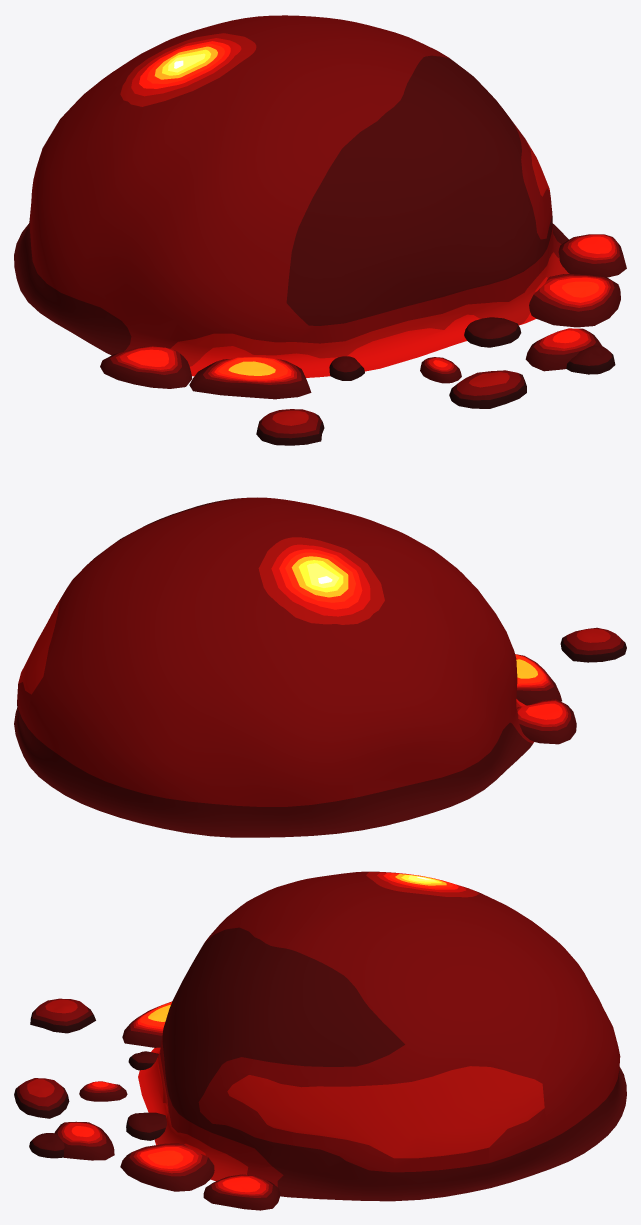
The model's file is lava_bubble_130.glb.
3 views of the same model, one above another, from view 1: azimuth 30°, elevation 25°; view 2: azimuth 150°, elevation 25°; view 3: azimuth 270°, elevation 25° (orthographic). The views are drawn at different scales.
Visible parts, largest first — view 1: dome, splash3, splash2, splash0, splash1, splash10, splash8, splash7, splash5, splash9, splash6, splash4; view 2: dome, splash0, splash8, splash3; view 3: dome, splash2, splash1, splash7, splash10, splash8, splash3, splash5, splash6, splash9.
Boxes of the visible parts, x1,y1,x2,y2 form: dome: (14,15,569,377); splash3: (189,357,311,399); splash2: (529,274,620,327); splash0: (100,346,192,388); splash1: (558,234,626,277); splash10: (449,370,526,408); splash8: (256,409,324,445); splash7: (525,328,601,371); splash5: (464,317,521,347); splash9: (566,345,615,374); splash6: (420,357,461,383); splash4: (329,356,364,380); dome: (14,497,533,837); splash0: (517,699,576,744); splash8: (560,627,626,662); splash3: (515,654,561,705); dome: (138,871,626,1201); splash2: (120,1143,214,1191); splash1: (203,1174,280,1210); splash7: (54,1121,114,1160); splash10: (14,1078,69,1118); splash8: (30,998,95,1033); splash3: (122,1001,172,1047); splash5: (126,1112,166,1140); splash6: (79,1081,127,1101); splash9: (29,1133,64,1158).
Size of the model in its own units: 22.8 by 10.9 by 26.02.
